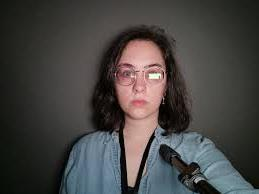face: (114, 40, 166, 119)
